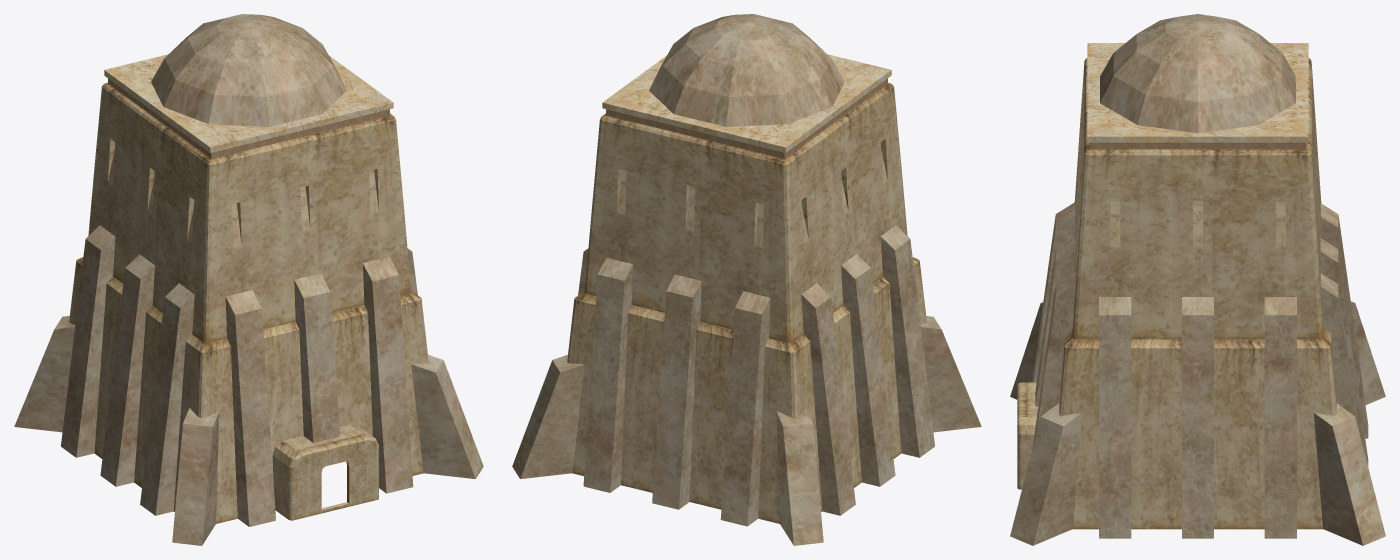
Rendered from thm_tato_imprv_building_s02_r0_mesh_l0.fbx.
The picture shows the model from 3 angles, left to right: view 1: azimuth 30°, elevation 25°; view 2: azimuth 150°, elevation 25°; view 3: azimuth 270°, elevation 25°; orthographic projection. The views are drawn at different scales.
Visible parts, largest first — view 1: mesh_node; view 2: mesh_node; view 3: mesh_node.
Part boxes in pixels (left/top/right/bottom): mesh_node: left=14, top=14, right=483, bottom=545; mesh_node: left=512, top=14, right=981, bottom=545; mesh_node: left=1010, top=14, right=1385, bottom=545.
Size of the model in its own units: 22.7 by 29.53 by 22.7.
